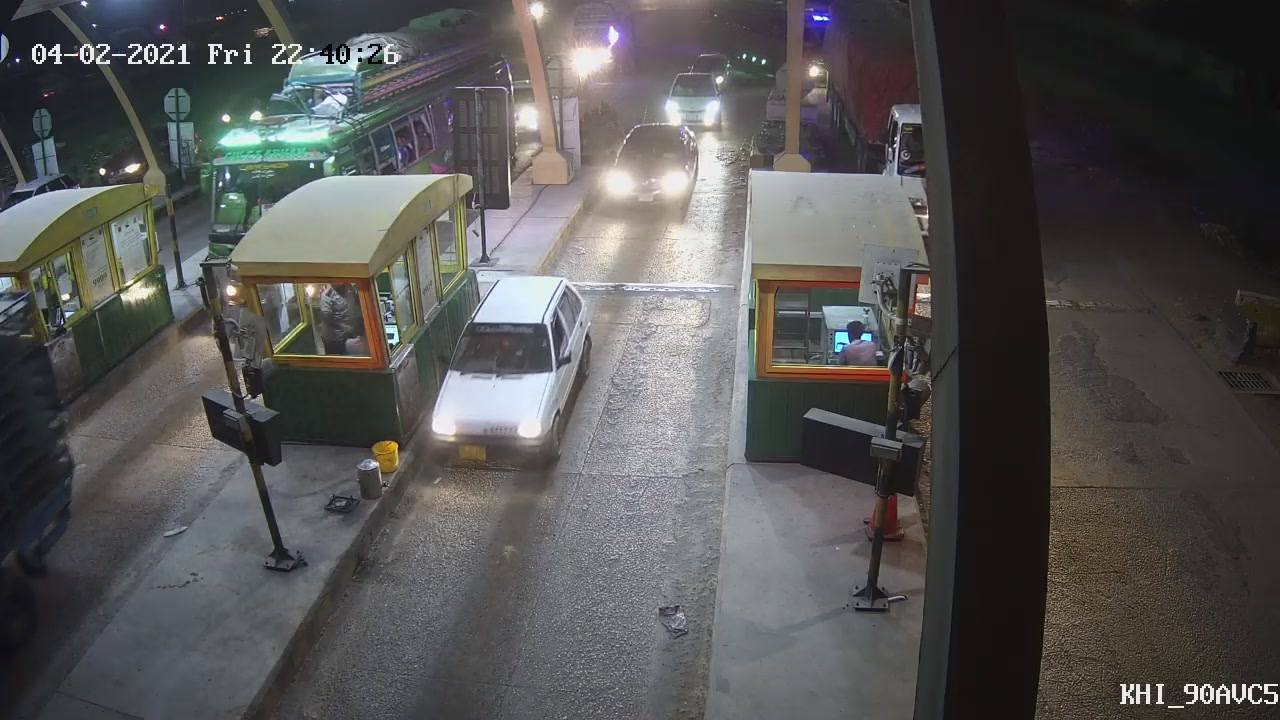F1: (424, 275, 597, 467)
